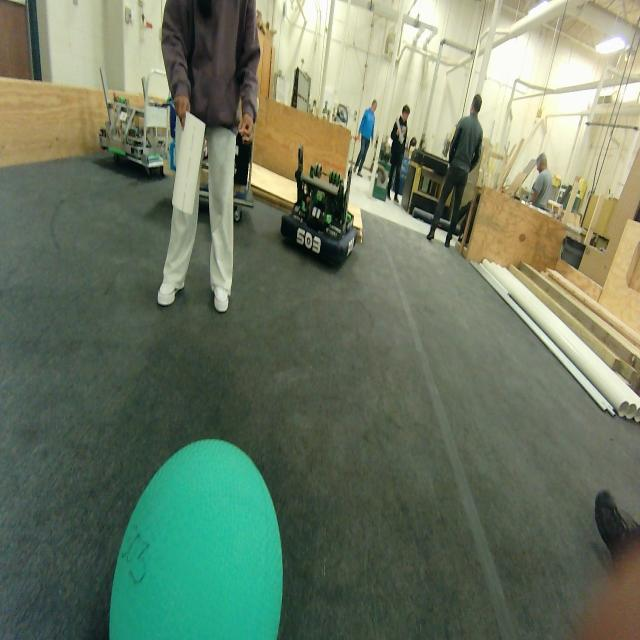algae: (109, 440, 283, 639), (110, 473, 282, 639)
